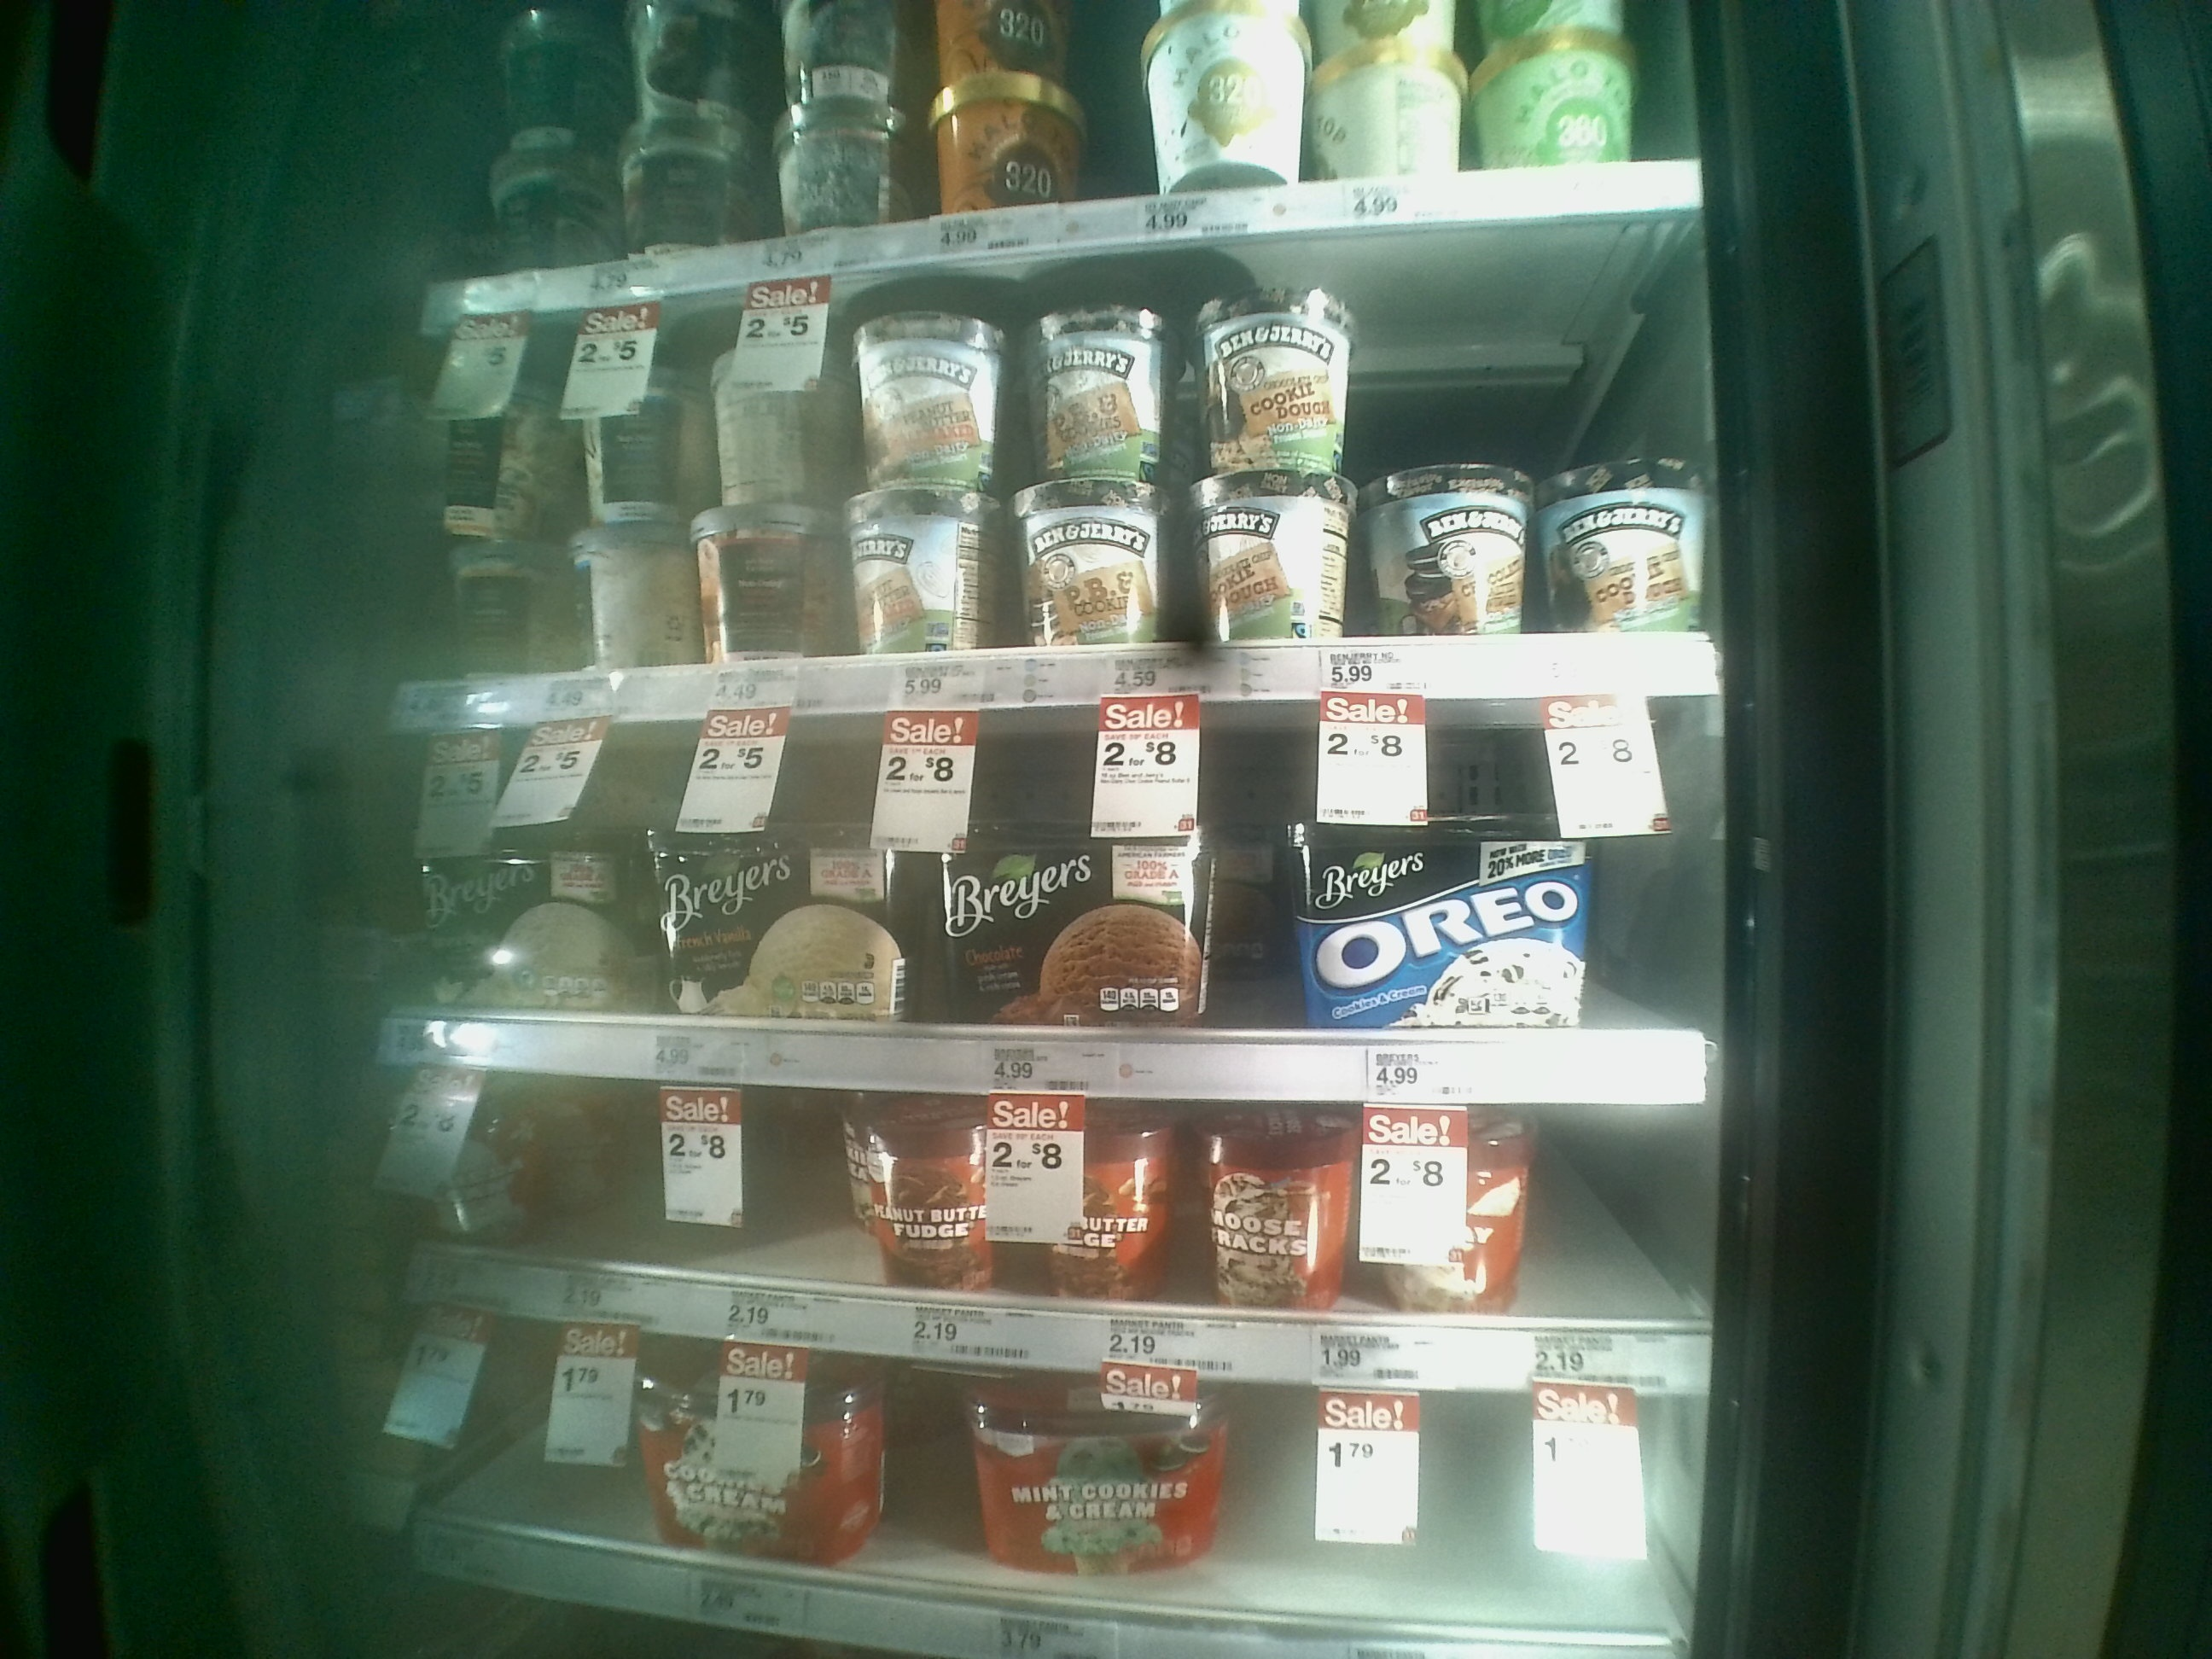shelf: (380, 204, 1703, 721), (388, 706, 1724, 1103), (387, 1073, 1719, 1401)
